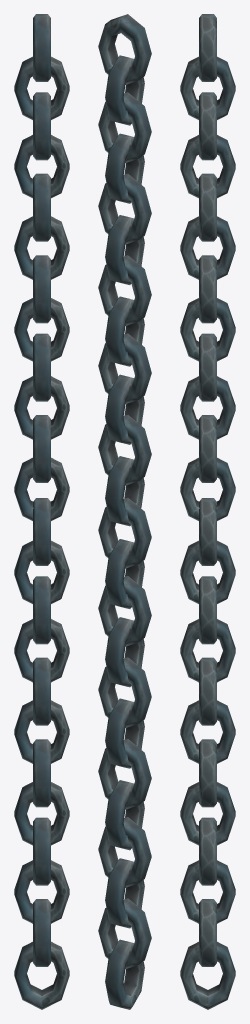
Rendered from Chain_A.fbx.
3 views of the same model, side by side, from view 1: azimuth 90°, elevation 25°; view 2: azimuth 150°, elevation 25°; view 3: azimuth 270°, elevation 25° (orthographic).
Visible parts, largest first — view 1: Metal_LP.005; view 2: Metal_LP.005; view 3: Metal_LP.005.
Part boxes in pixels (x1,y1,x2,y2): Metal_LP.005: [14, 14, 69, 1009]; Metal_LP.005: [98, 14, 151, 1009]; Metal_LP.005: [180, 14, 235, 1009].
Bounding box in the file's own units: 160 × 3168 × 160.
